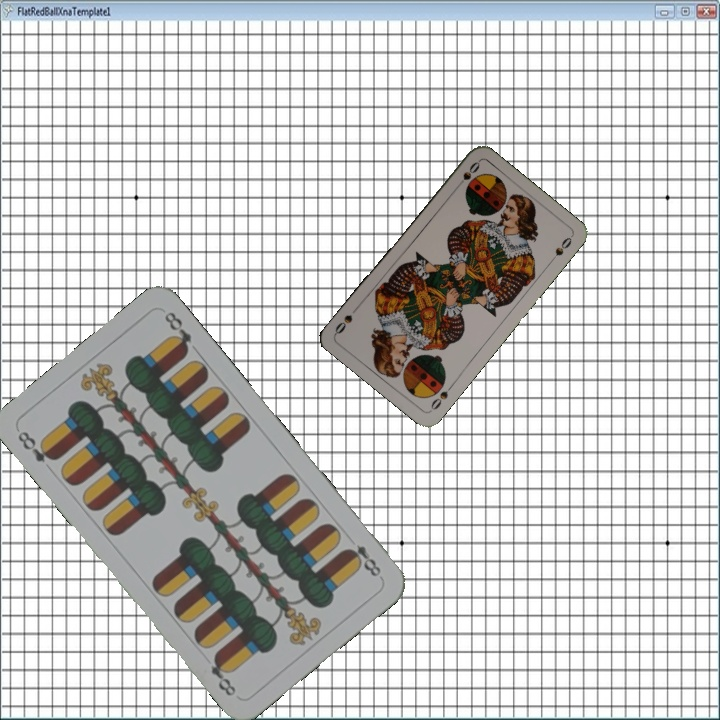E8: (13, 426, 60, 466), (341, 540, 385, 581)
SO: (452, 158, 483, 192), (426, 380, 456, 414)
